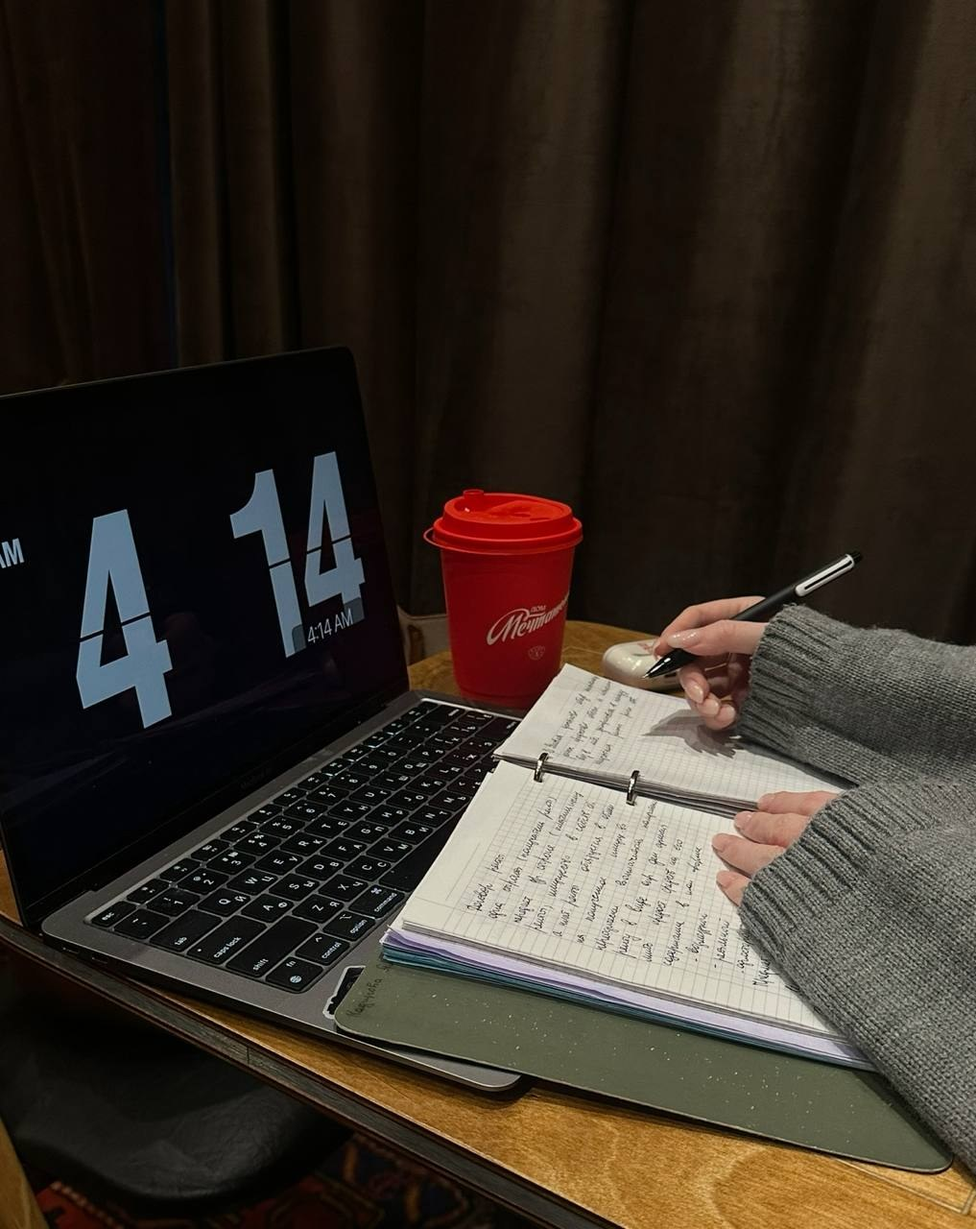laptop: (0, 344, 537, 1095)
